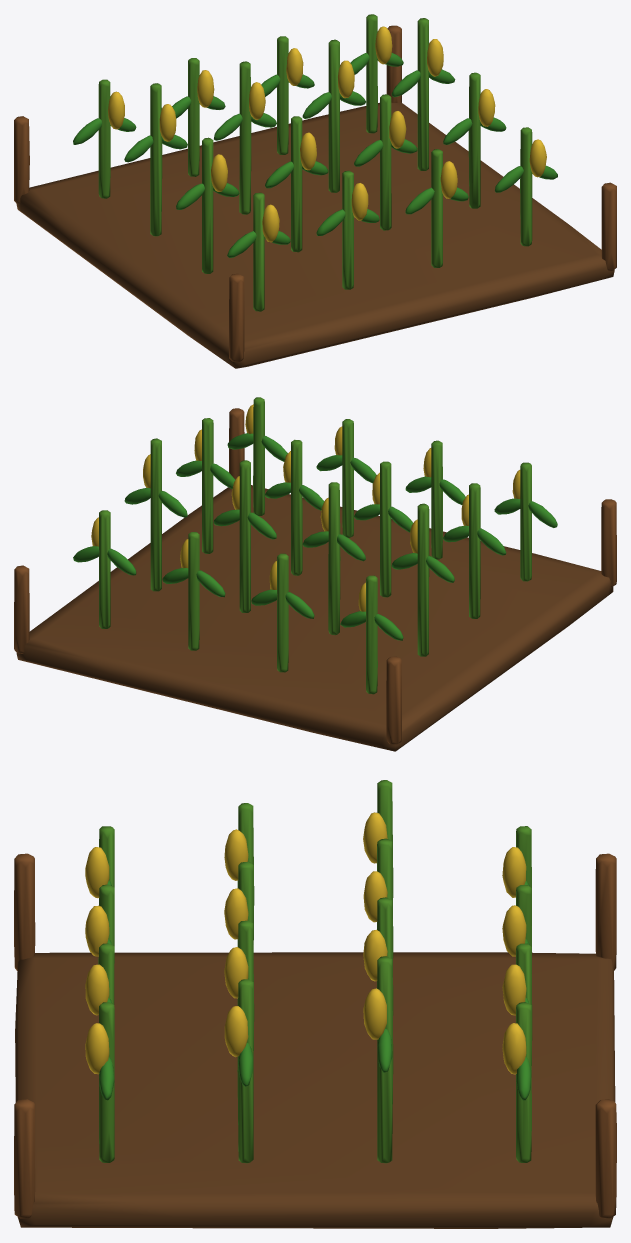
Rendered from Maisfeld.fbx.
The picture shows the model from 3 angles, top to bottom: view 1: azimuth 30°, elevation 25°; view 2: azimuth 150°, elevation 25°; view 3: azimuth 270°, elevation 25°; orthographic projection. The views are drawn at different scales.
Visible parts, largest first — view 1: Maisfeld; view 2: Maisfeld; view 3: Maisfeld.
Part boxes in pixels (bbox=[...]): Maisfeld: bbox=[14, 14, 616, 368]; Maisfeld: bbox=[14, 397, 616, 751]; Maisfeld: bbox=[14, 780, 616, 1228].
Size of the model in its own units: 1.91 by 0.8284 by 1.91.
